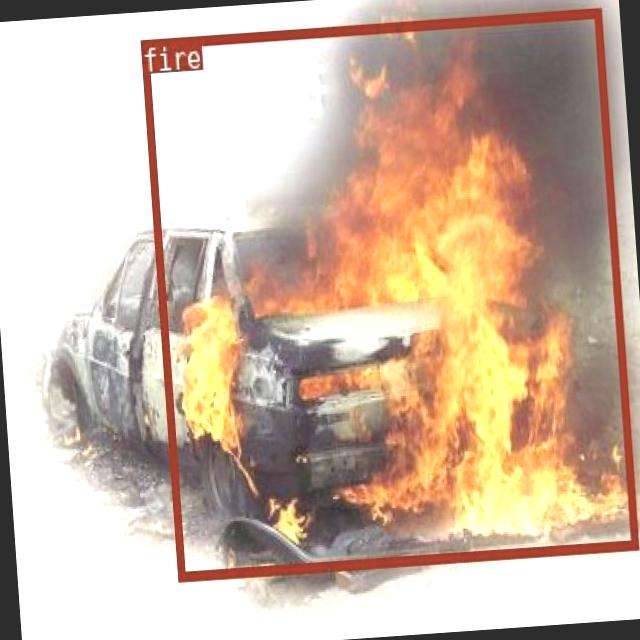fire: (138, 6, 636, 579)
